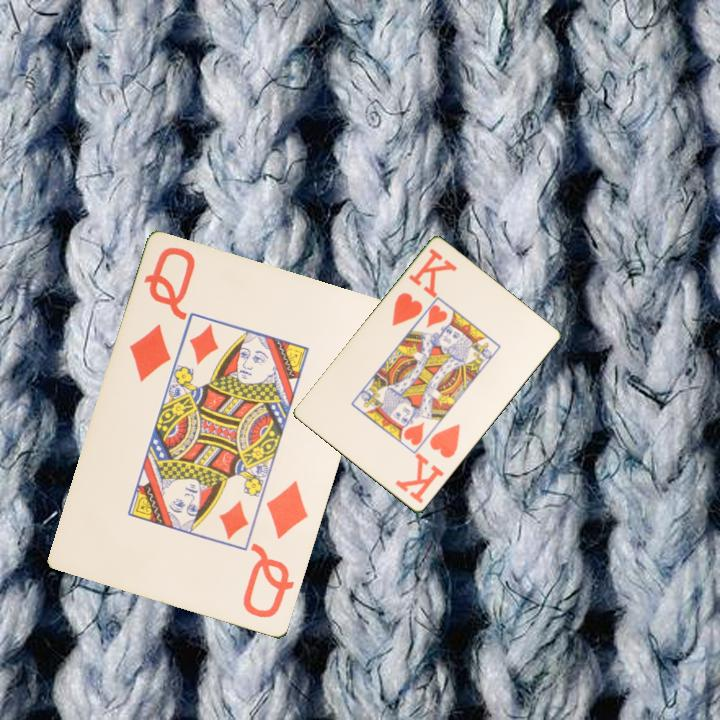Kh: (391, 421, 463, 507), (388, 245, 460, 329)
Qd: (239, 477, 312, 622), (125, 244, 199, 386)
